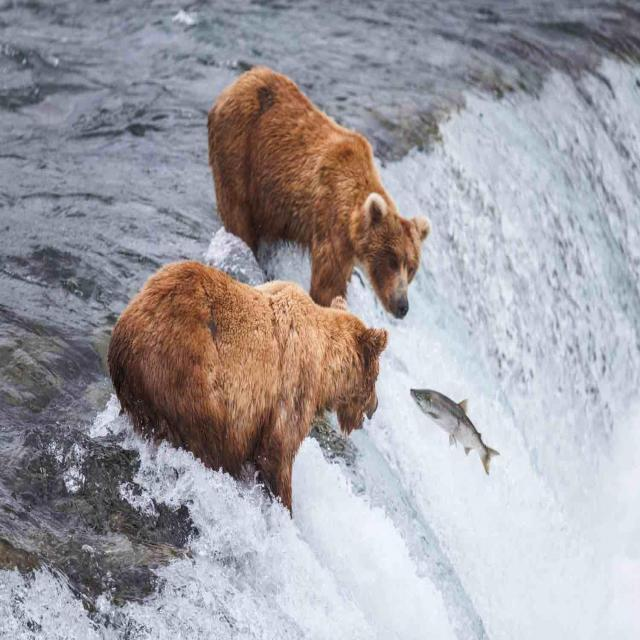Bear: (105, 261, 389, 511), (206, 67, 431, 320)
